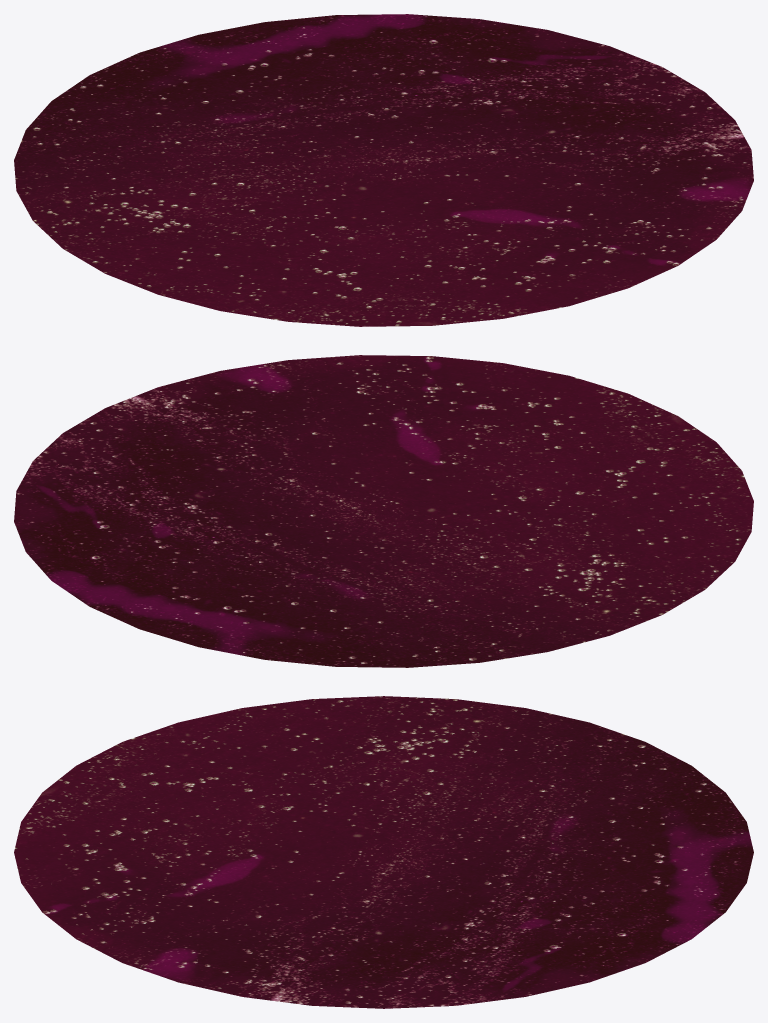
Rendered from wine.fbx.
3 views of the same model, one above another, from view 1: azimuth 30°, elevation 25°; view 2: azimuth 150°, elevation 25°; view 3: azimuth 270°, elevation 25° (orthographic).
Parts seen in each view (by area): view 1: Circle; view 2: Circle; view 3: Circle.
Part boxes in pixels (x1=…): Circle: x1=14, y1=14, x2=753, y2=326; Circle: x1=14, y1=355, x2=753, y2=667; Circle: x1=14, y1=696, x2=753, y2=1008.
Size of the model in its own units: 200 by 3.26e-05 by 200.
